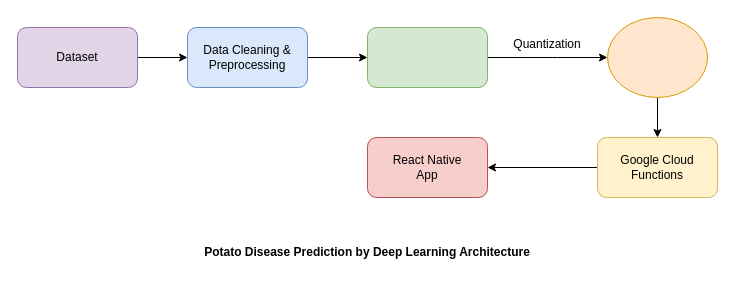
The diagram is 735 pixels wide and 285 high, and some of its shapes have lost their labels. Here are the shapes that lost their labels. From the top down, the box of each, then its label:
(366, 26, 488, 88): Model Building (CNN)
(606, 16, 708, 98): TF Lite Model
